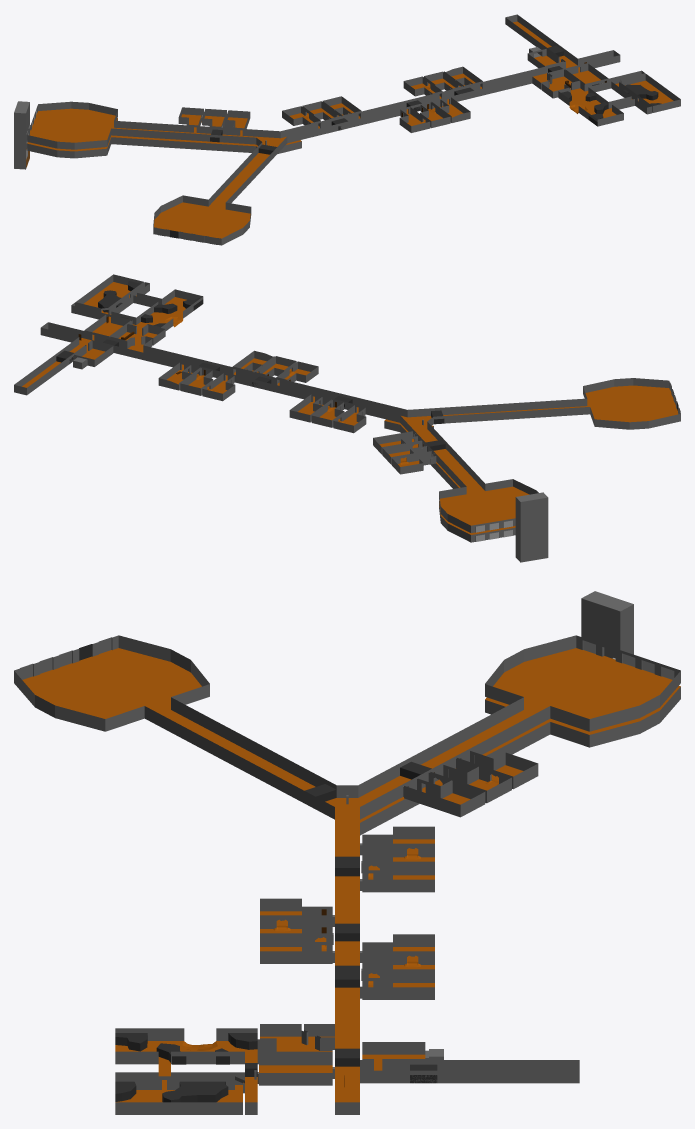
File: WB_nivel2_Bugtants.fbx
The picture shows the model from 3 angles, top to bottom: view 1: azimuth 30°, elevation 25°; view 2: azimuth 150°, elevation 25°; view 3: azimuth 270°, elevation 25°; orthographic projection. The views are drawn at different scales.
Parts seen in each view (by area): view 1: polySurface1833; view 2: polySurface1833; view 3: polySurface1833.
Boxes of the visible parts, x1=… form: polySurface1833: x1=14, y1=14, x2=680, y2=245; polySurface1833: x1=14, y1=274, x2=680, y2=562; polySurface1833: x1=14, y1=591, x2=680, y2=1114.
Bounding box in the file's own units: 225 × 22.5 × 134.
